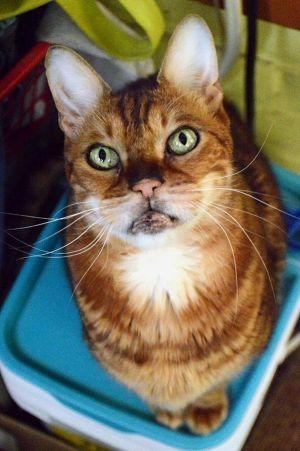bengal: (43, 8, 255, 262)
